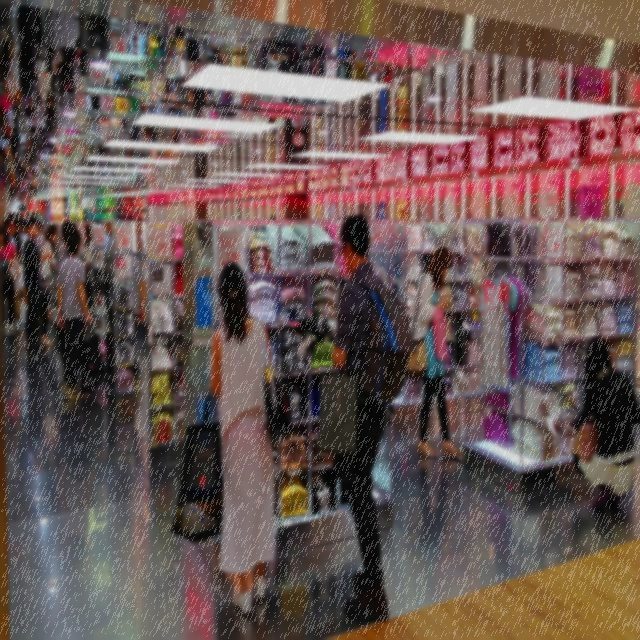pessoa: (316, 210, 417, 626), (6, 368, 150, 576), (210, 262, 274, 620), (414, 466, 598, 582), (0, 0, 91, 214), (402, 242, 464, 465), (571, 333, 639, 512), (46, 219, 84, 394), (58, 228, 94, 400), (20, 215, 48, 358), (178, 26, 208, 116), (2, 216, 26, 328), (38, 222, 58, 350), (130, 254, 145, 393), (12, 210, 47, 266), (282, 96, 309, 163), (84, 218, 114, 269), (133, 256, 145, 322), (52, 224, 62, 257)
